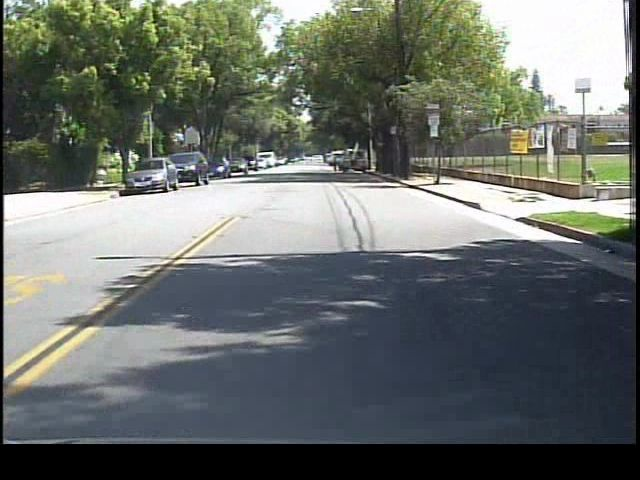person: (327, 148, 342, 174)
